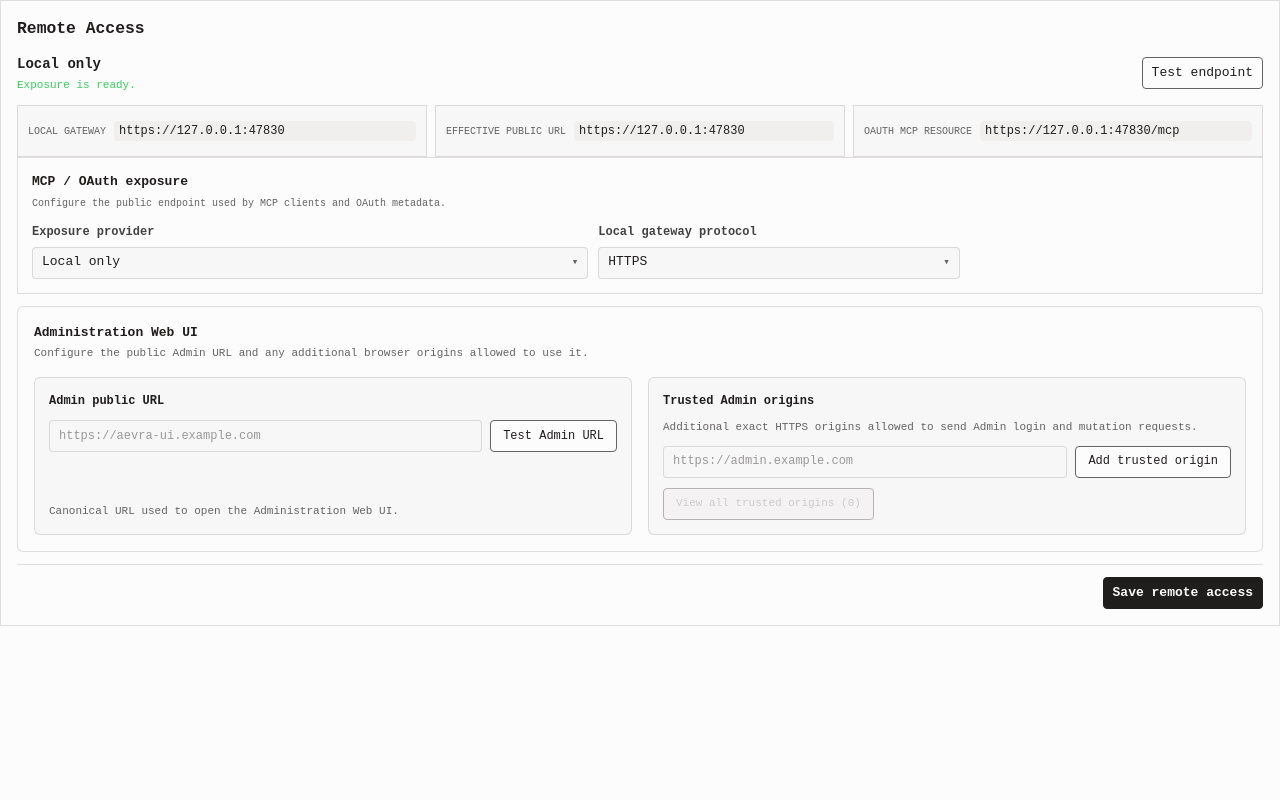
Test: saving the local provider posts a minimal config
Click the button with aria-label "Exposure provider". click: (81, 262)
box: [32,247,588,279]
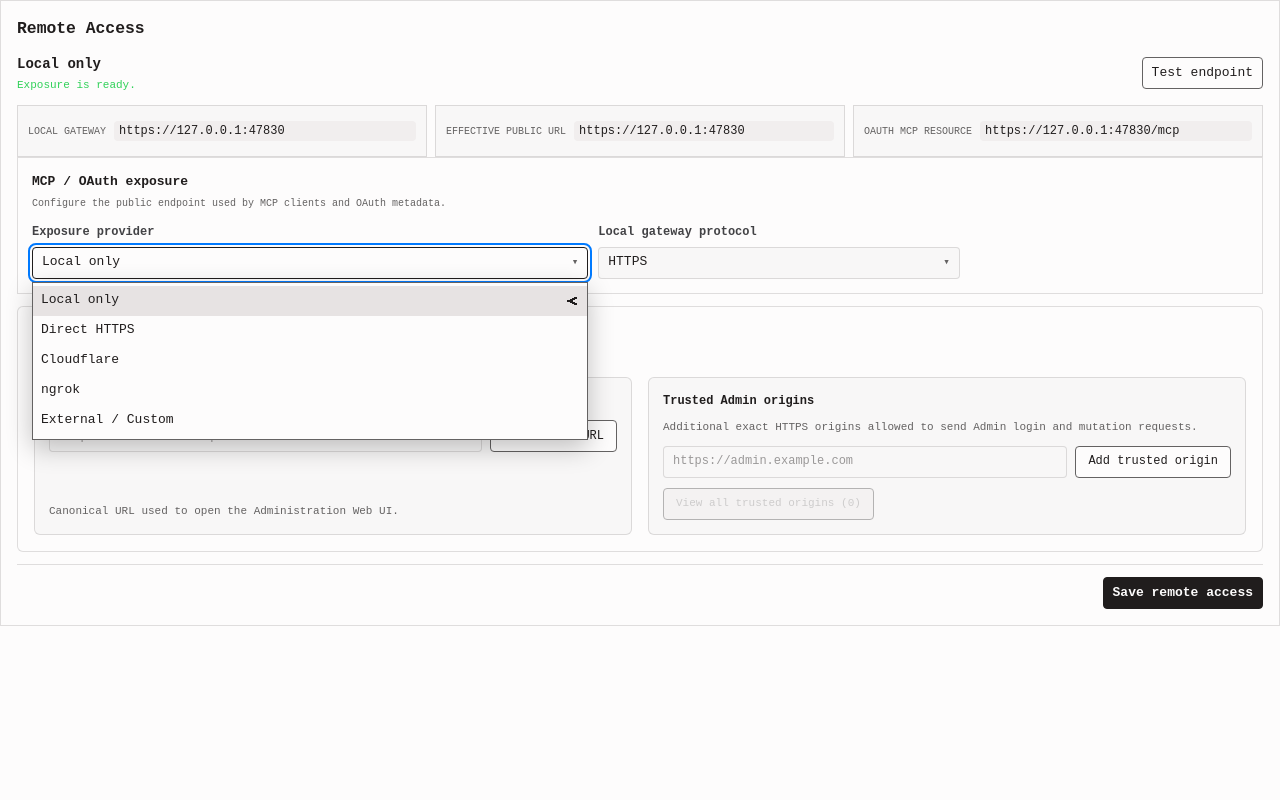
Click the option "Local only". click: (80, 300)
box: [33,286,587,316]
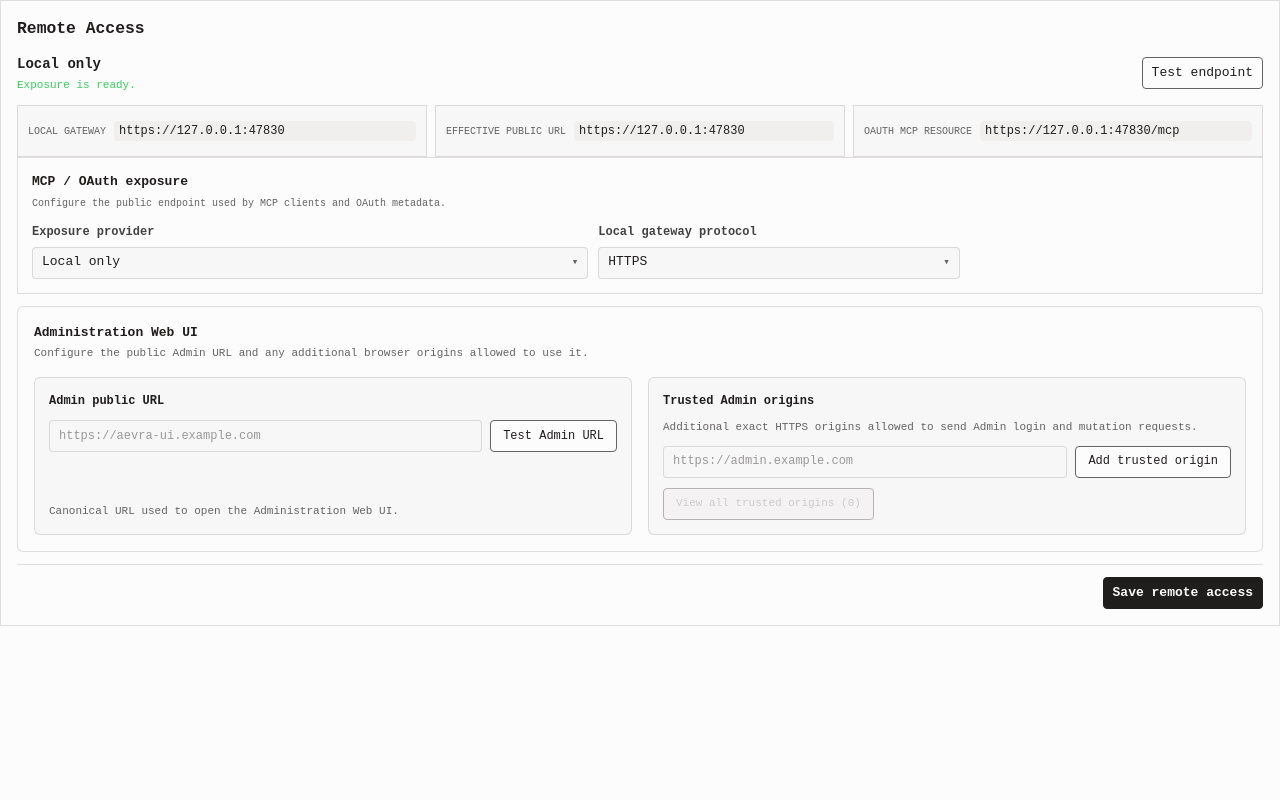
Click the button "Save remote access". click: (1183, 593)
box: [1103,577,1263,609]
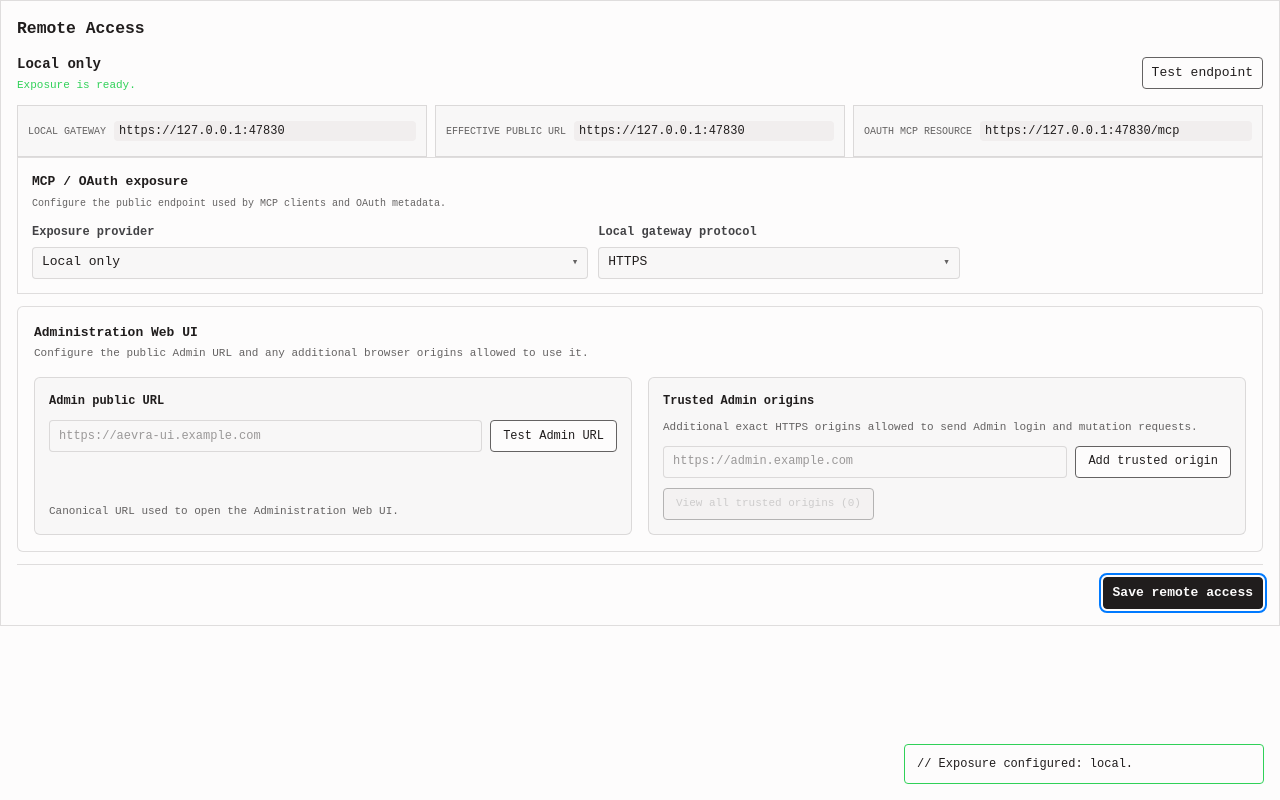
Check: the text "Exposure configured: local." is shown, box [904,744,1264,784]
